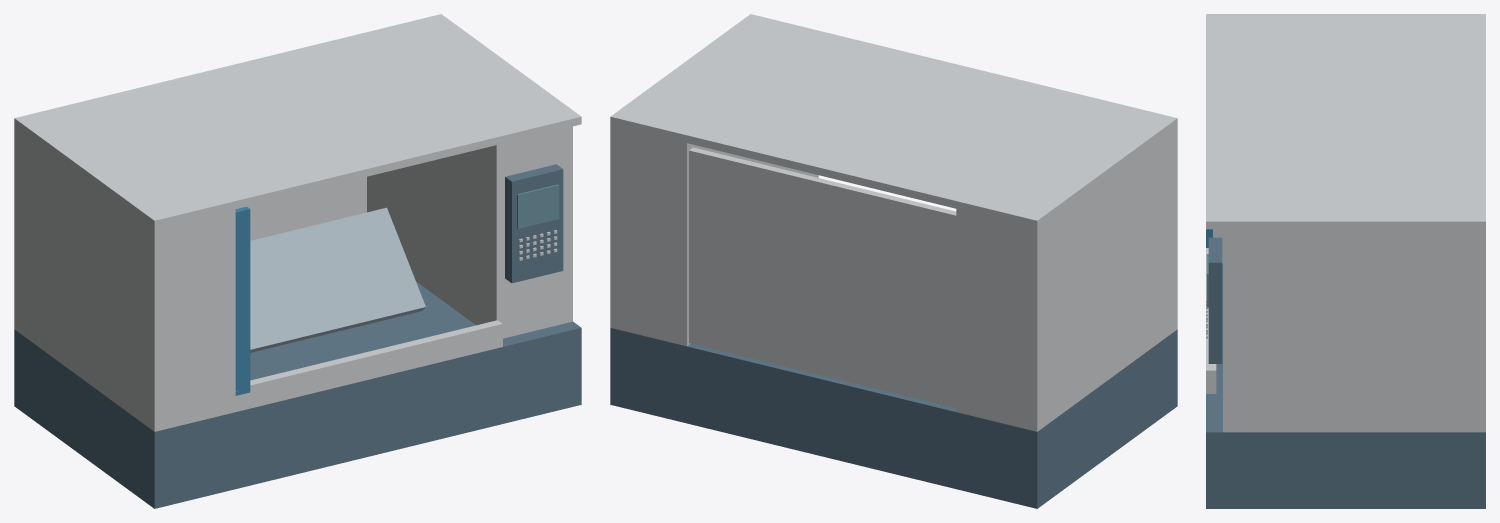
The model's file is context.glb.
3 views of the same model, side by side, from view 1: azimuth 30°, elevation 25°; view 2: azimuth 150°, elevation 25°; view 3: azimuth 270°, elevation 25° (orthographic).
Parts seen in each view (by area): view 1: Top beam, Base, Left headstock enclosure, Right electrical enclosure, 45 degree slant bed, Front sill, Control panel, Rear guard, Door stowed schematic, Control display; view 2: Top beam, Rear guard, Left headstock enclosure, Base, Right electrical enclosure; view 3: Top beam, Right electrical enclosure, Base, Control panel, Front sill.
Part boxes in pixels (x1,y1,x2,y2): Top beam: (14, 14, 581, 228); Base: (14, 281, 581, 508); Left headstock enclosure: (14, 126, 235, 431); Right electrical enclosure: (367, 126, 572, 338); 45 degree slant bed: (250, 207, 425, 352); Front sill: (233, 320, 502, 411); Control panel: (505, 164, 563, 283); Rear guard: (236, 177, 366, 240); Door stowed schematic: (235, 206, 250, 395); Control display: (517, 184, 559, 228); Top beam: (610, 14, 1177, 228); Rear guard: (689, 147, 958, 407); Left headstock enclosure: (956, 126, 1177, 431); Base: (610, 328, 1177, 508); Right electrical enclosure: (610, 124, 818, 346); Top beam: (1206, 14, 1485, 229); Right electrical enclosure: (1223, 229, 1485, 432); Base: (1206, 264, 1485, 508); Control panel: (1208, 237, 1222, 363); Front sill: (1206, 248, 1216, 393).
Bounding box in the file's own units: 2900 × 1870 × 1650.
